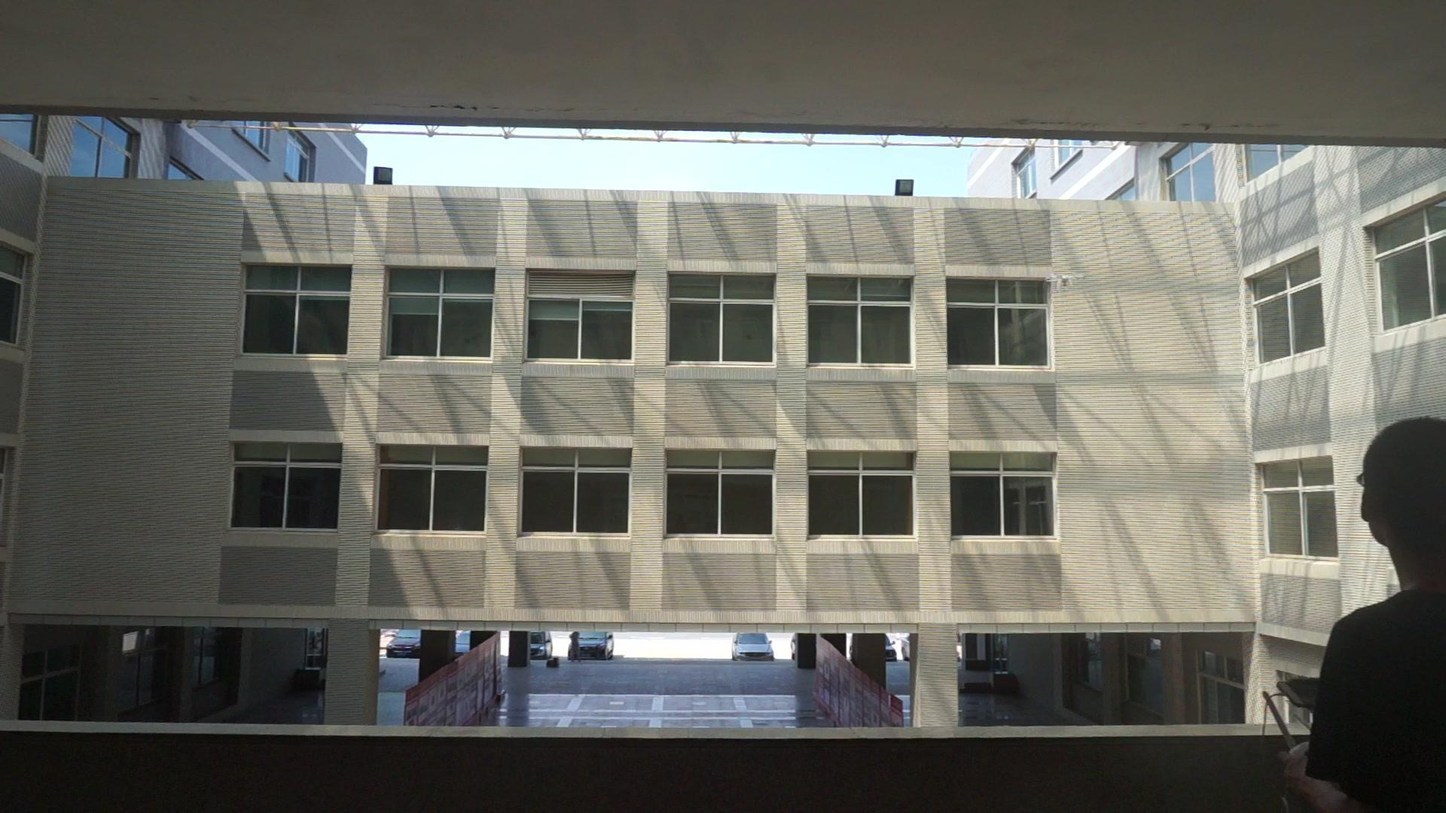UAV: (1045, 275, 1085, 291)
